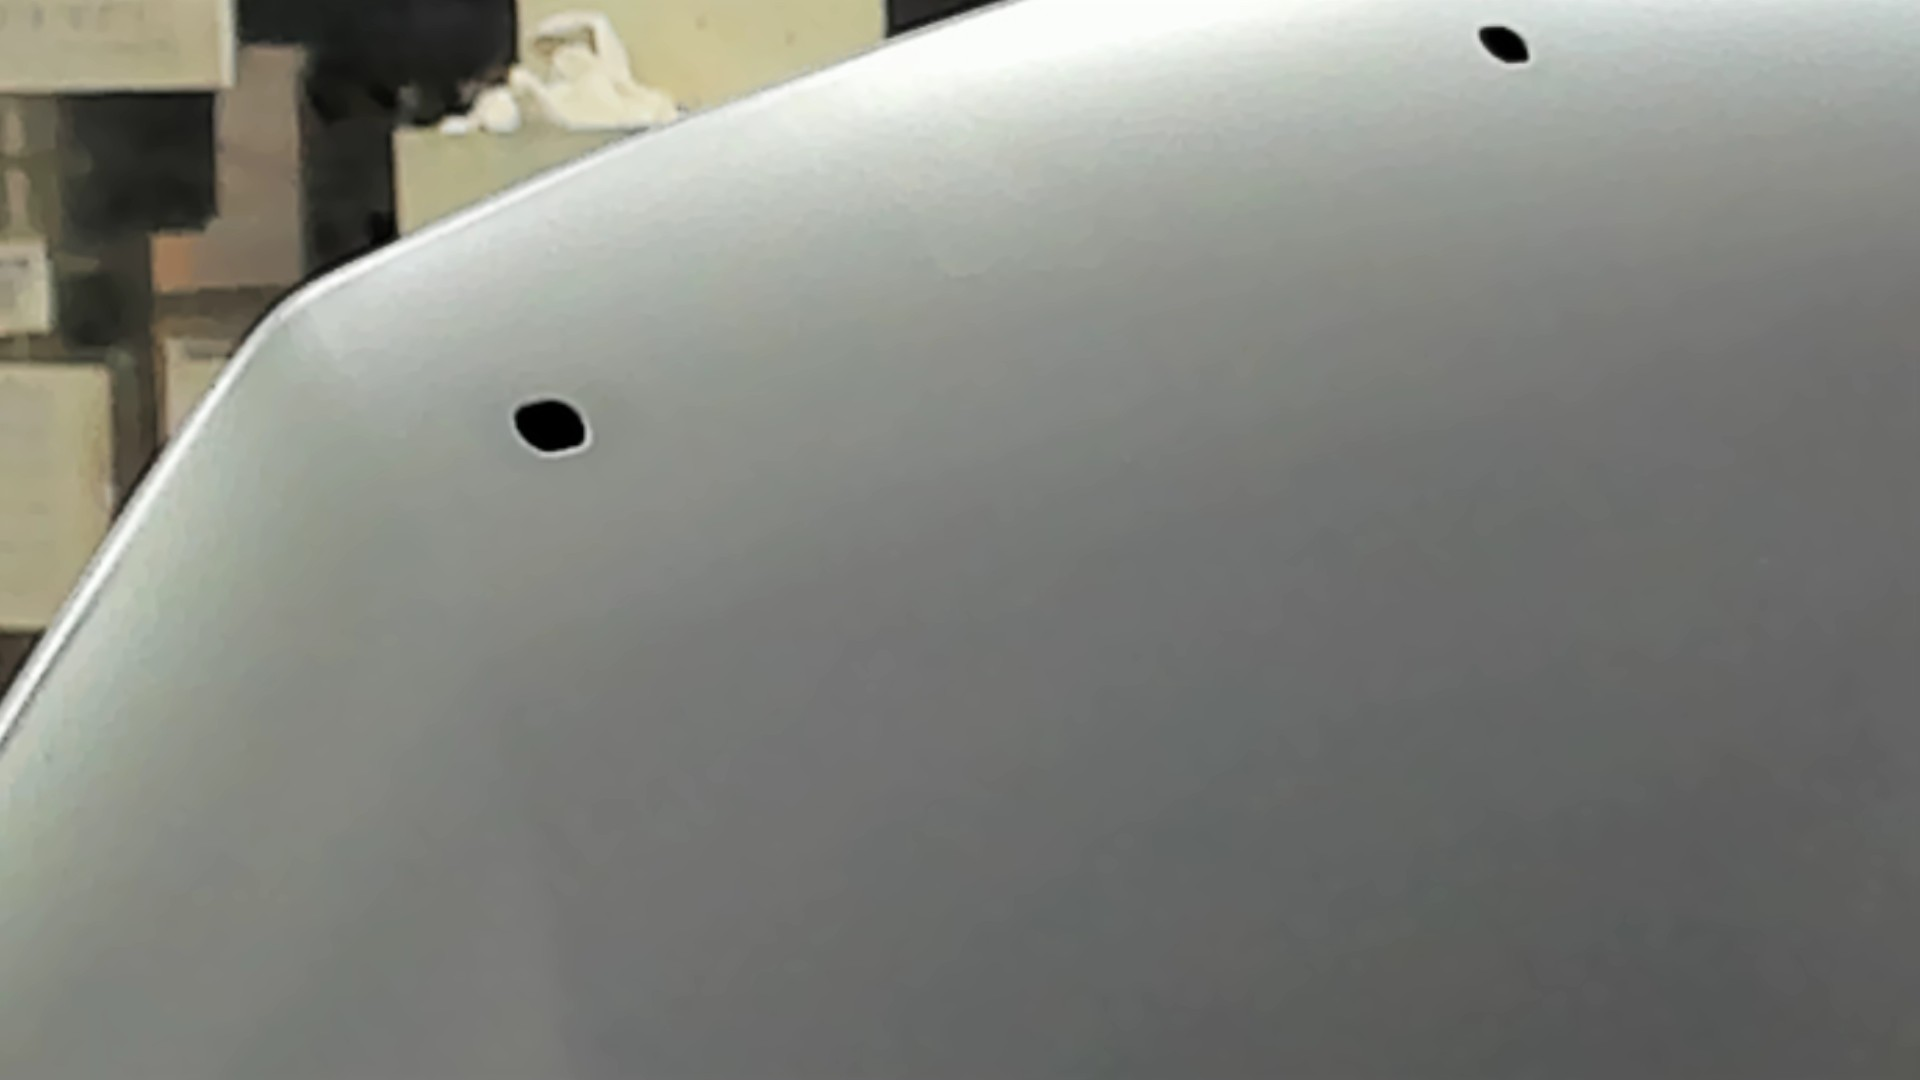amorfo: (504, 396, 597, 462), (1473, 15, 1534, 76)
